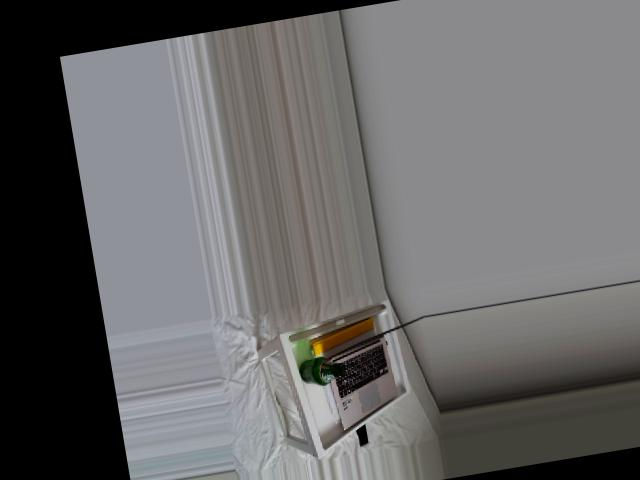beer: (297, 353, 346, 388)
